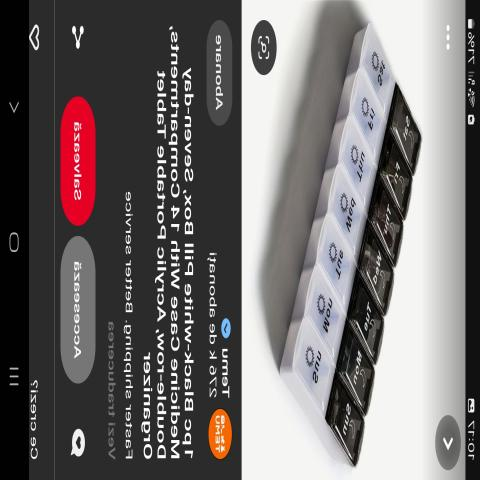PillBox: (258, 11, 424, 469)
